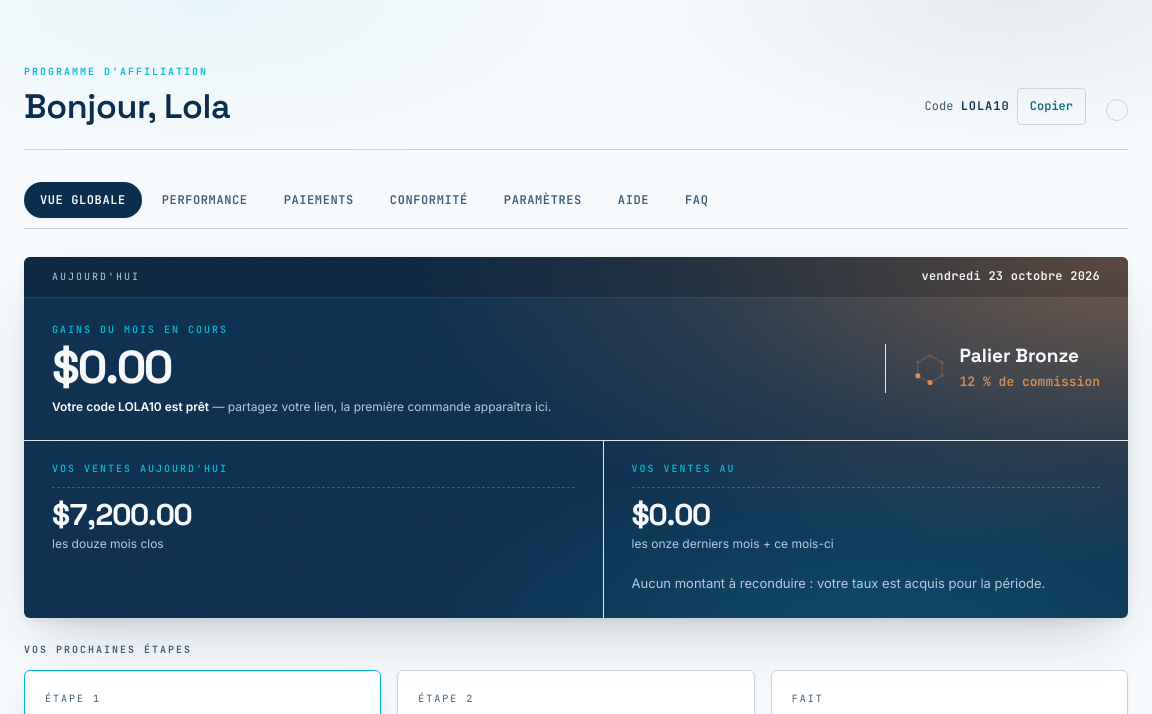
Test: le détail d'un versement › LA RETENUE est nommée, et ce n'est pas une alerte
The width and height of the screenshot is (1152, 714).
What coordinates should you click on to do the following:
click the button with test id "affiliate-tab-payments"
I would click on:
 (319, 200)
Its box is [268, 182, 370, 218].
(page scrolled)
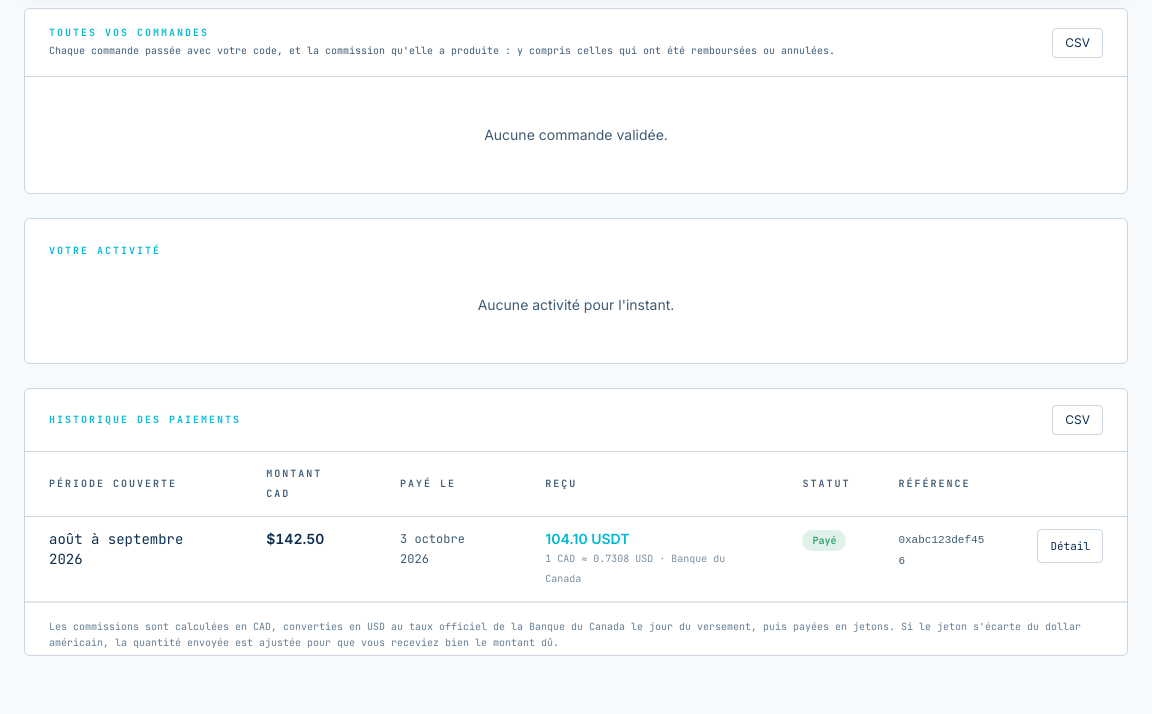
What coordinates should you click on to do the following:
click the button with test id "detail-bouton-table-pay-1"
I would click on:
 (1070, 546)
Its box is [1037, 529, 1103, 563].
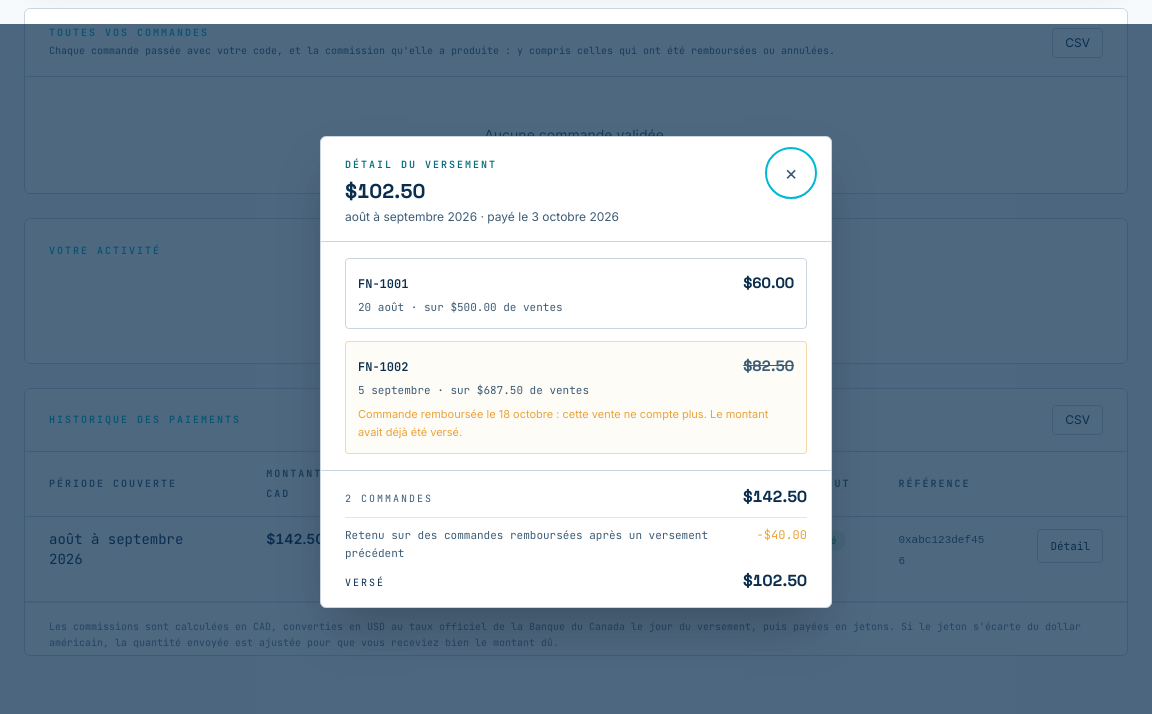
Now the element with test id "detail-creance" shows "40.00", box [764, 528, 807, 544]
Now the element with test id "detail-creance" shows "102.50", box [743, 570, 807, 591]
Now the element with test id "detail-creance" shows "rembours", box [345, 528, 708, 560]
